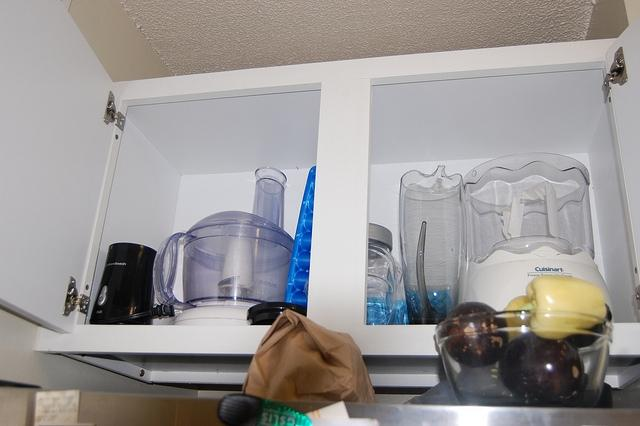bell pepper: (514, 274, 608, 340)
